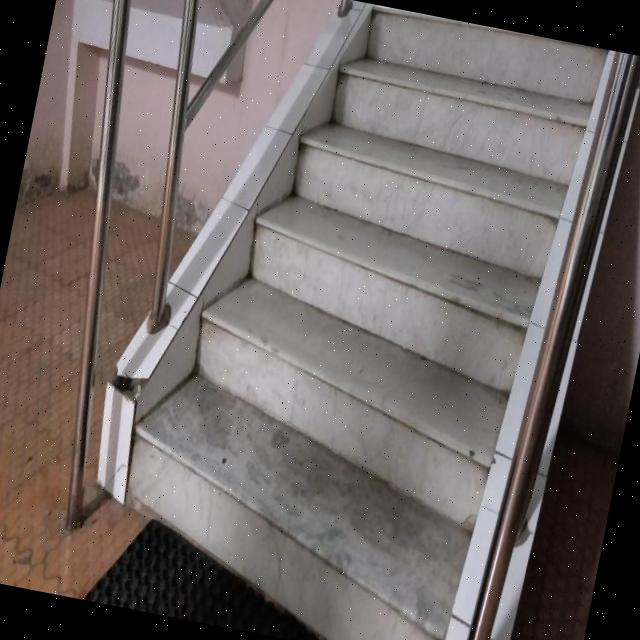stairs: (93, 0, 614, 640)
